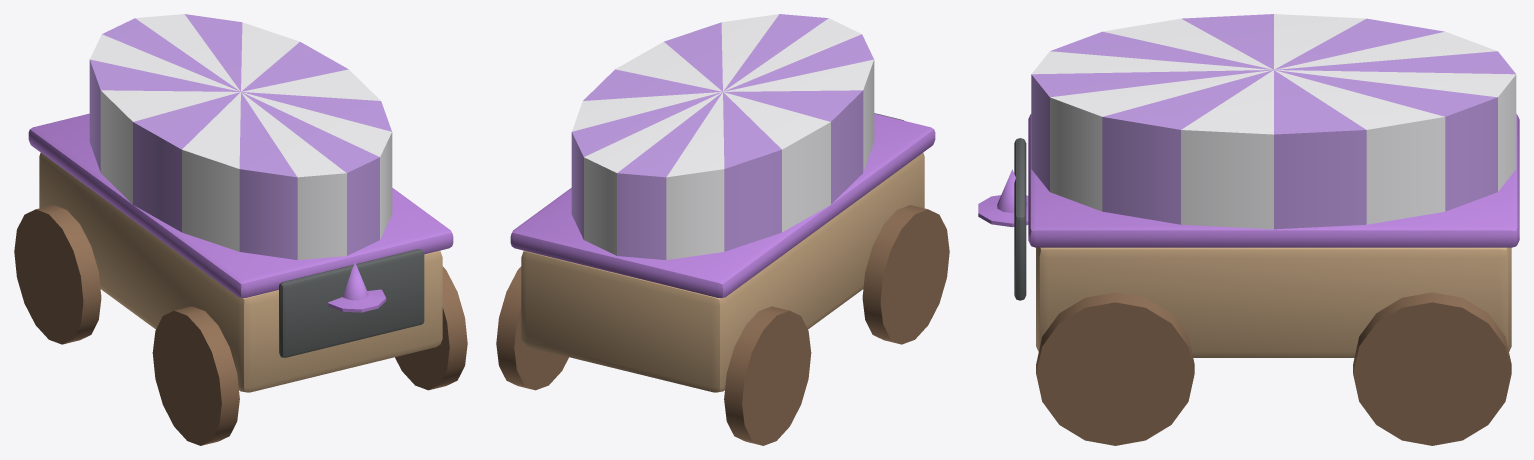
The model's file is DeliveryCart.fbx.
3 renders of one model, left to right at view 1: azimuth 30°, elevation 25°; view 2: azimuth 150°, elevation 25°; view 3: azimuth 270°, elevation 25°, orthographic. The views are drawn at different scales.
Parts seen in each view (by area): view 1: DeliveryCart; view 2: DeliveryCart; view 3: DeliveryCart.
Boxes of the visible parts, left/top/right/bottom form: DeliveryCart: left=14, top=14, right=467, bottom=445; DeliveryCart: left=496, top=14, right=949, bottom=445; DeliveryCart: left=978, top=14, right=1519, bottom=445.
Size of the model in its own units: 4.1 by 4.28 by 6.83.
